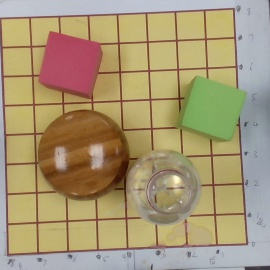bottle: (124, 151, 202, 227)
chess: (38, 110, 129, 202)
